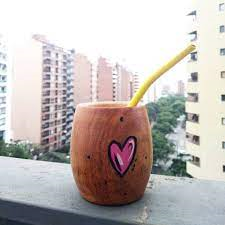madera: (64, 96, 158, 206)
mate: (66, 98, 160, 208)
